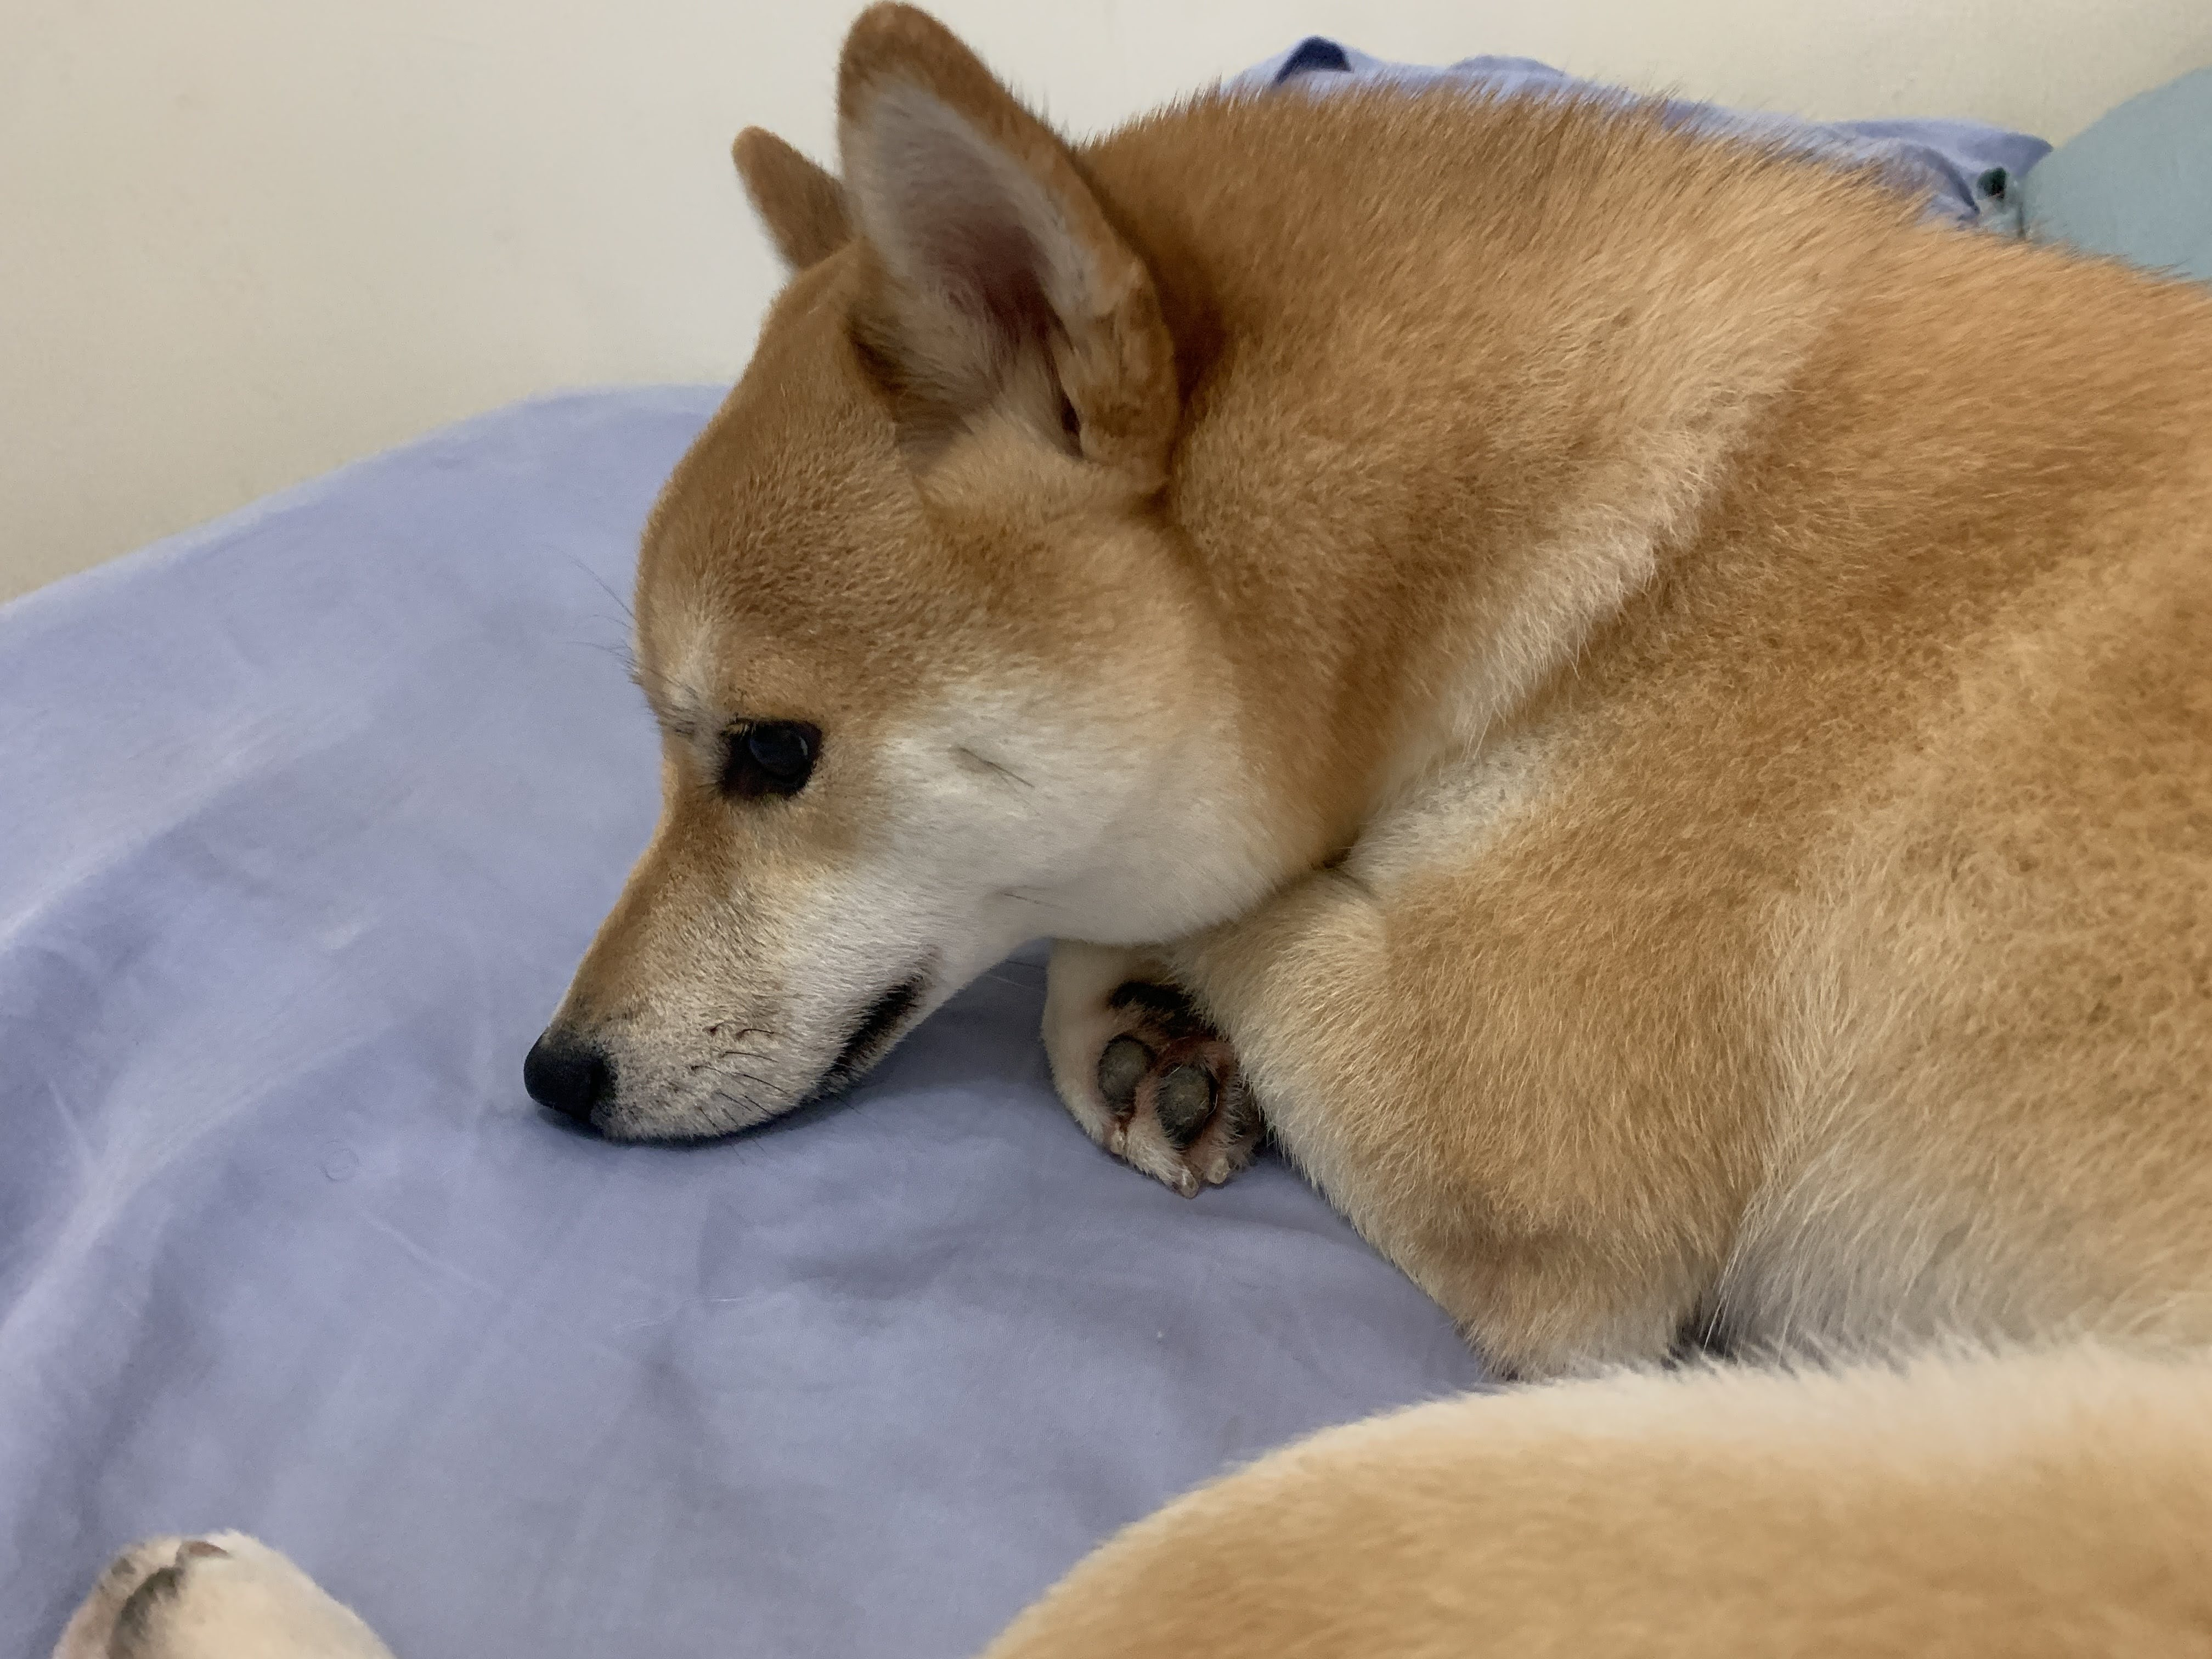Get down: (418, 2, 2212, 1659)
